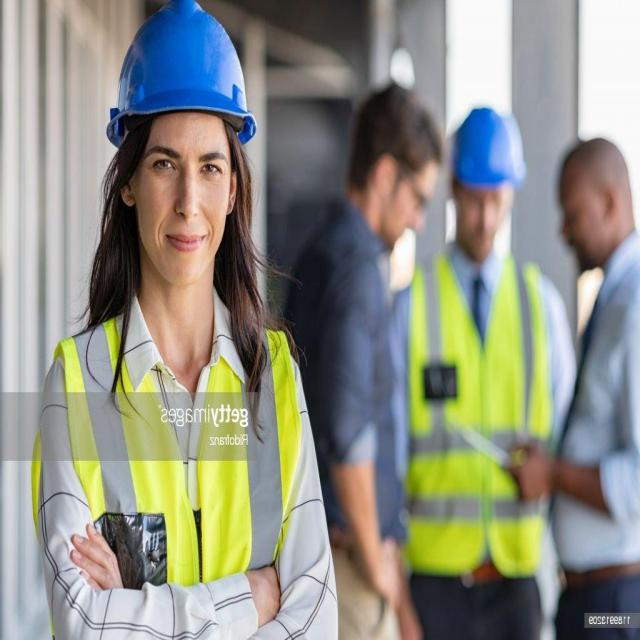Reflective-Jacket: (52, 305, 308, 604), (400, 249, 554, 581)
Safety-Helmet: (105, 4, 258, 153), (445, 97, 529, 196)
